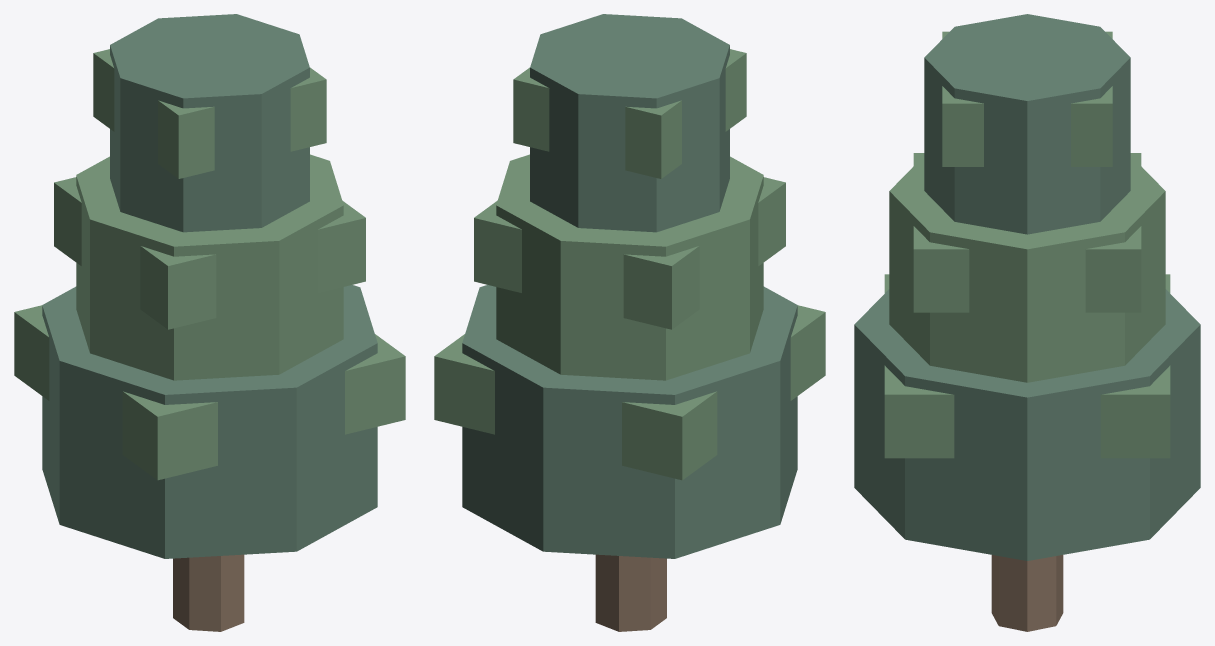
File: pinheiro_pequeno.glb
3 views of the same model, side by side, from view 1: azimuth 30°, elevation 25°; view 2: azimuth 150°, elevation 25°; view 3: azimuth 270°, elevation 25° (orthographic).
Parts seen in each view (by area): view 1: part_001, part_003, part_005, part_002, part_004, part_006, part_000; view 2: part_001, part_003, part_005, part_002, part_004, part_006, part_000; view 3: part_001, part_003, part_005, part_002, part_004, part_006, part_000.
Part boxes in pixels (<box>): part_001: <box>42,285,377,558</box>; part_003: <box>76,154,343,380</box>; part_005: <box>110,14,309,232</box>; part_002: <box>14,305,405,480</box>; part_004: <box>54,177,365,329</box>; part_006: <box>93,49,326,178</box>; part_000: <box>173,554,244,631</box>; part_001: <box>462,285,797,558</box>; part_003: <box>496,154,763,380</box>; part_005: <box>530,14,729,232</box>; part_002: <box>434,305,825,480</box>; part_004: <box>474,177,785,329</box>; part_006: <box>513,49,746,178</box>; part_000: <box>595,554,666,631</box>; part_001: <box>854,289,1200,560</box>; part_003: <box>889,156,1165,382</box>; part_005: <box>924,14,1130,234</box>; part_002: <box>884,274,1170,458</box>; part_004: <box>913,153,1141,312</box>; part_006: <box>942,31,1112,166</box>; part_000: <box>991,555,1063,631</box>.
Bounding box in the file's own units: 1.88 × 3.35 × 1.88.
